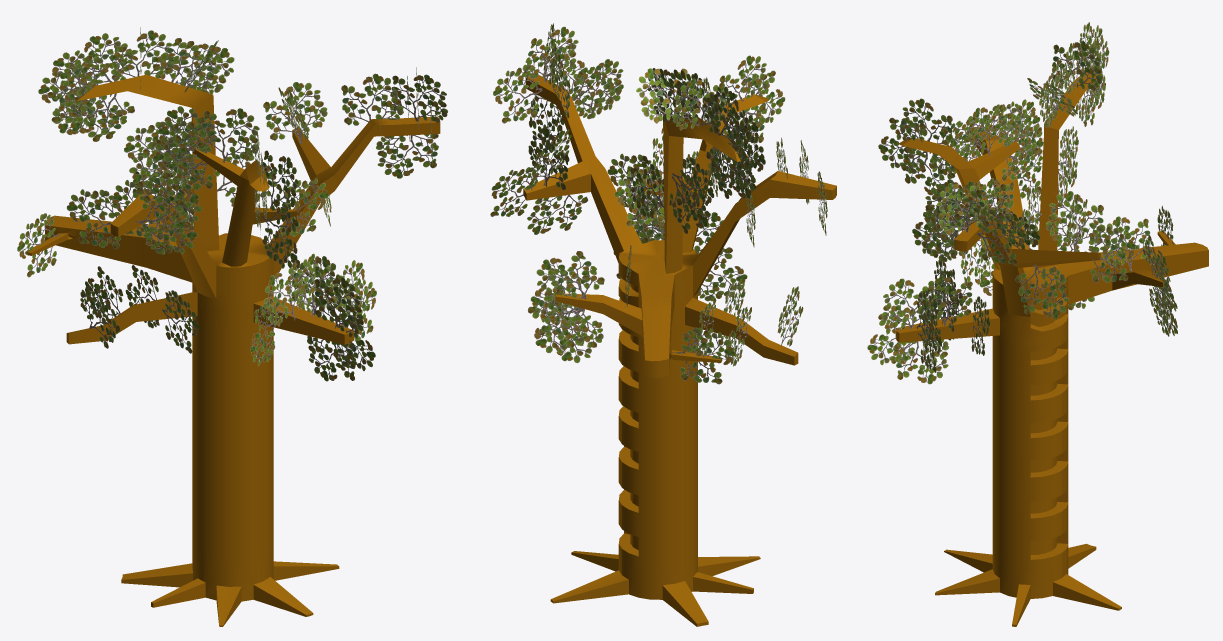
Rendered from Tree Climable.fbx.
3 renders of one model, left to right at view 1: azimuth 30°, elevation 25°; view 2: azimuth 150°, elevation 25°; view 3: azimuth 270°, elevation 25°, orthographic. The views are drawn at different scales.
Visible parts, largest first — view 1: Tree, pPlane42, pPlane56, pPlane58, pPlane35, pPlane40, pPlane46, pPlane22, pPlane34, pPlane47, pPlane38, pPlane45 (+29 smaller); view 2: Tree, pPlane26, pPlane23, pPlane25, pPlane3, pPlane15, pPlane27, pPlane2, pPlane12, pPlane49, pPlane48, pPlane16 (+23 smaller); view 3: Tree, pPlane9, pPlane10, pPlane11, pPlane3, pPlane17, pPlane1, pPlane53, pPlane50, pPlane48, pPlane51, pPlane21 (+29 smaller).
Part boxes in pixels (left/top/right/bottom): Tree: left=25, top=74, right=440, bottom=626; pPlane42: left=136, top=195, right=197, bottom=254; pPlane56: left=263, top=82, right=327, bottom=143; pPlane58: left=197, top=108, right=259, bottom=162; pPlane35: left=165, top=41, right=234, bottom=94; pPlane40: left=66, top=189, right=120, bottom=249; pPlane46: left=341, top=73, right=403, bottom=125; pPlane22: left=153, top=133, right=213, bottom=190; pPlane34: left=65, top=83, right=134, bottom=139; pPlane47: left=376, top=134, right=438, bottom=178; pPlane38: left=47, top=50, right=108, bottom=112; pPlane45: left=390, top=74, right=447, bottom=123; Tree: left=523, top=75, right=836, bottom=626; pPlane26: left=527, top=288, right=589, bottom=353; pPlane23: left=672, top=327, right=735, bottom=384; pPlane25: left=536, top=251, right=604, bottom=310; pPlane3: left=493, top=64, right=542, bottom=123; pPlane15: left=572, top=61, right=623, bottom=119; pPlane27: left=539, top=301, right=603, bottom=363; pPlane2: left=524, top=26, right=578, bottom=82; pPlane12: left=614, top=166, right=664, bottom=226; pPlane49: left=636, top=68, right=701, bottom=123; pPlane48: left=672, top=78, right=725, bottom=130; pPlane16: left=571, top=59, right=623, bottom=118; Tree: left=895, top=72, right=1208, bottom=626; pPlane9: left=1088, top=225, right=1135, bottom=282; pPlane10: left=1046, top=191, right=1103, bottom=251; pPlane11: left=1015, top=264, right=1069, bottom=318; pPlane3: left=977, top=209, right=1026, bottom=265; pPlane17: left=878, top=117, right=926, bottom=173; pPlane1: left=912, top=204, right=961, bottom=261; pPlane53: left=894, top=339, right=948, bottom=384; pPlane50: left=881, top=278, right=935, bottom=328; pPlane48: left=1052, top=41, right=1102, bottom=91; pPlane51: left=918, top=275, right=972, bottom=325; pPlane21: left=998, top=99, right=1041, bottom=160.
Size of the model in its own units: 52 by 81.03 by 48.17.
